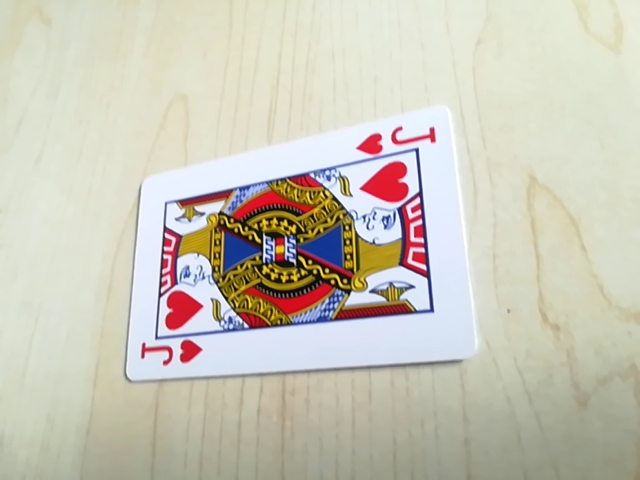hx j: (353, 121, 443, 160), (134, 332, 207, 377)
